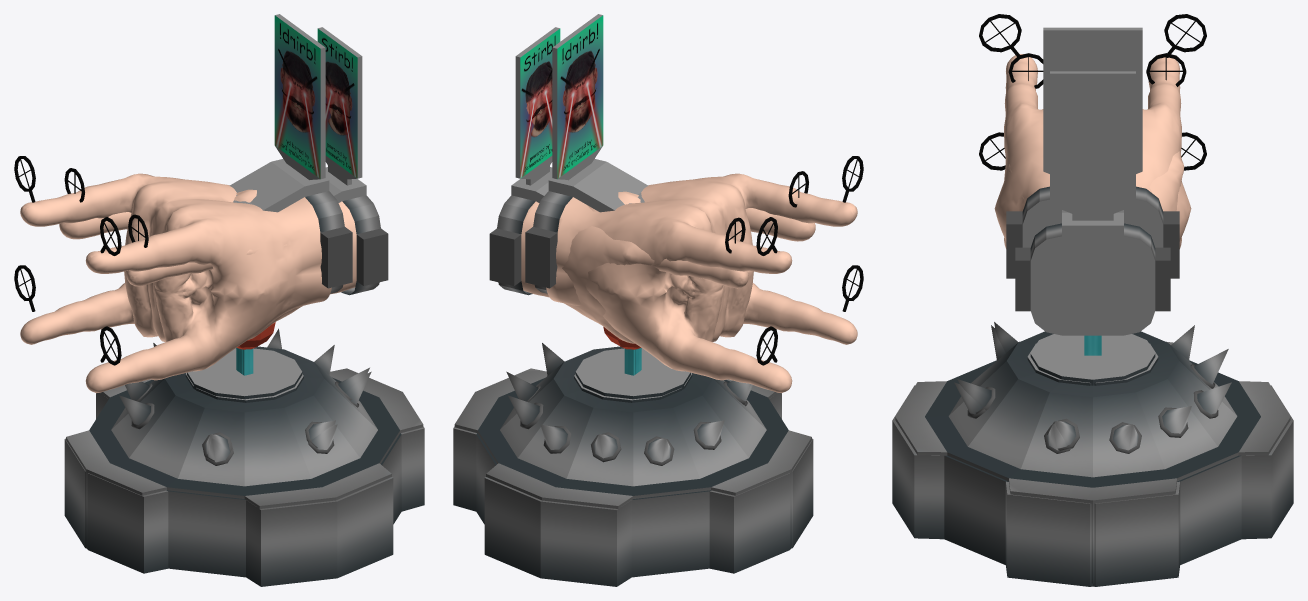
Rendered from Manufaktur_Turret_FK_v02.glb.
3 views of the same model, side by side, from view 1: azimuth 30°, elevation 25°; view 2: azimuth 150°, elevation 25°; view 3: azimuth 270°, elevation 25° (orthographic). The views are drawn at different scales.
Parts seen in each view (by area): view 1: Turret_quad_v01, Turret_double_v01; view 2: Turret_quad_v01, Turret_double_v01; view 3: Turret_double_v01, Turret_quad_v01.
Part boxes in pixels (x1,y1,x2,y2): Turret_quad_v01: (14, 14, 424, 586); Turret_double_v01: (59, 27, 423, 546); Turret_quad_v01: (453, 14, 863, 586); Turret_double_v01: (454, 27, 815, 546); Turret_double_v01: (895, 53, 1290, 583); Turret_quad_v01: (892, 14, 1293, 586).
Bounding box in the file's own units: 3.01 × 3.85 × 2.78.
1 material, 1 textured.
